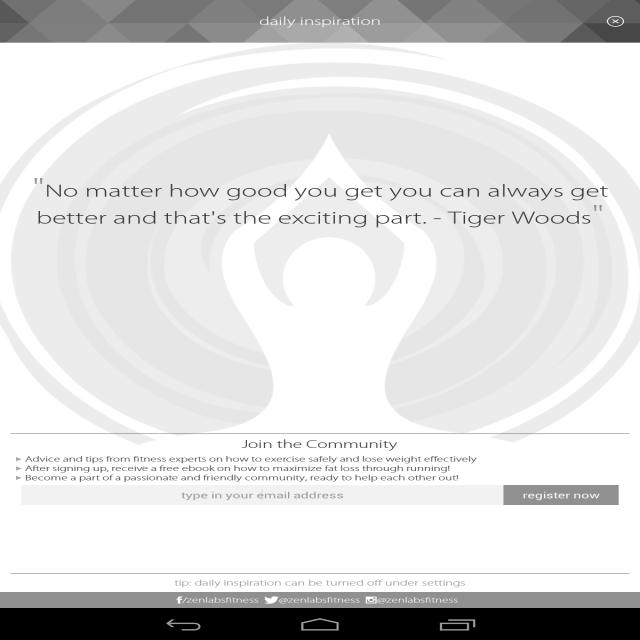Button: (494, 478, 625, 511)
TextView: (27, 173, 611, 233), (18, 433, 485, 503), (253, 9, 392, 32)
